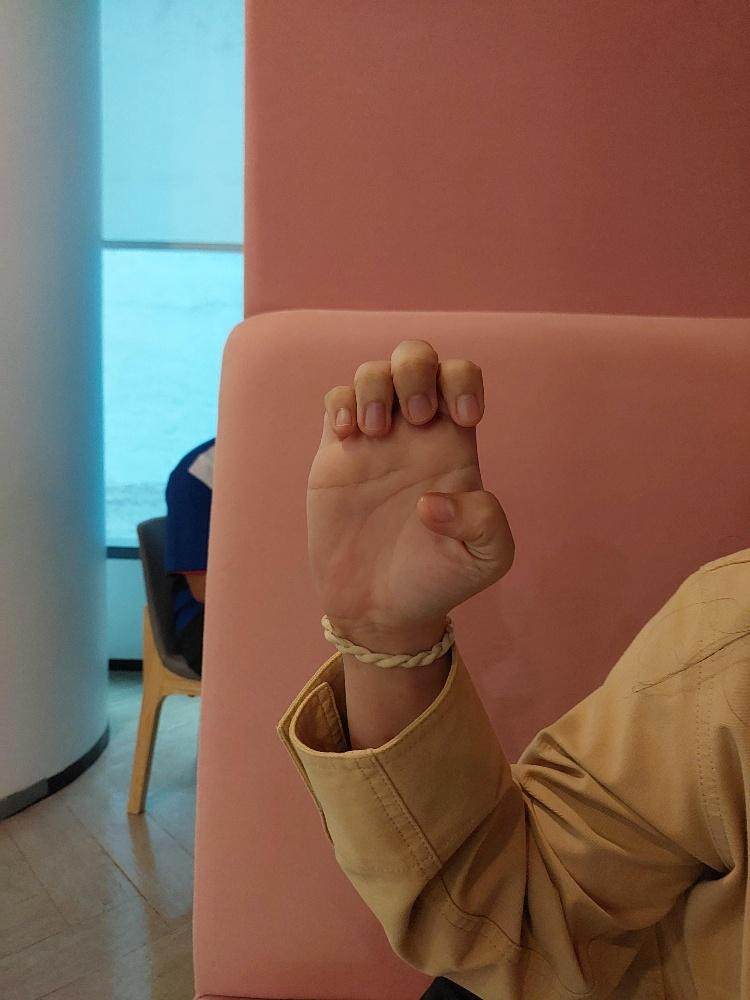e: (297, 327, 524, 647)
